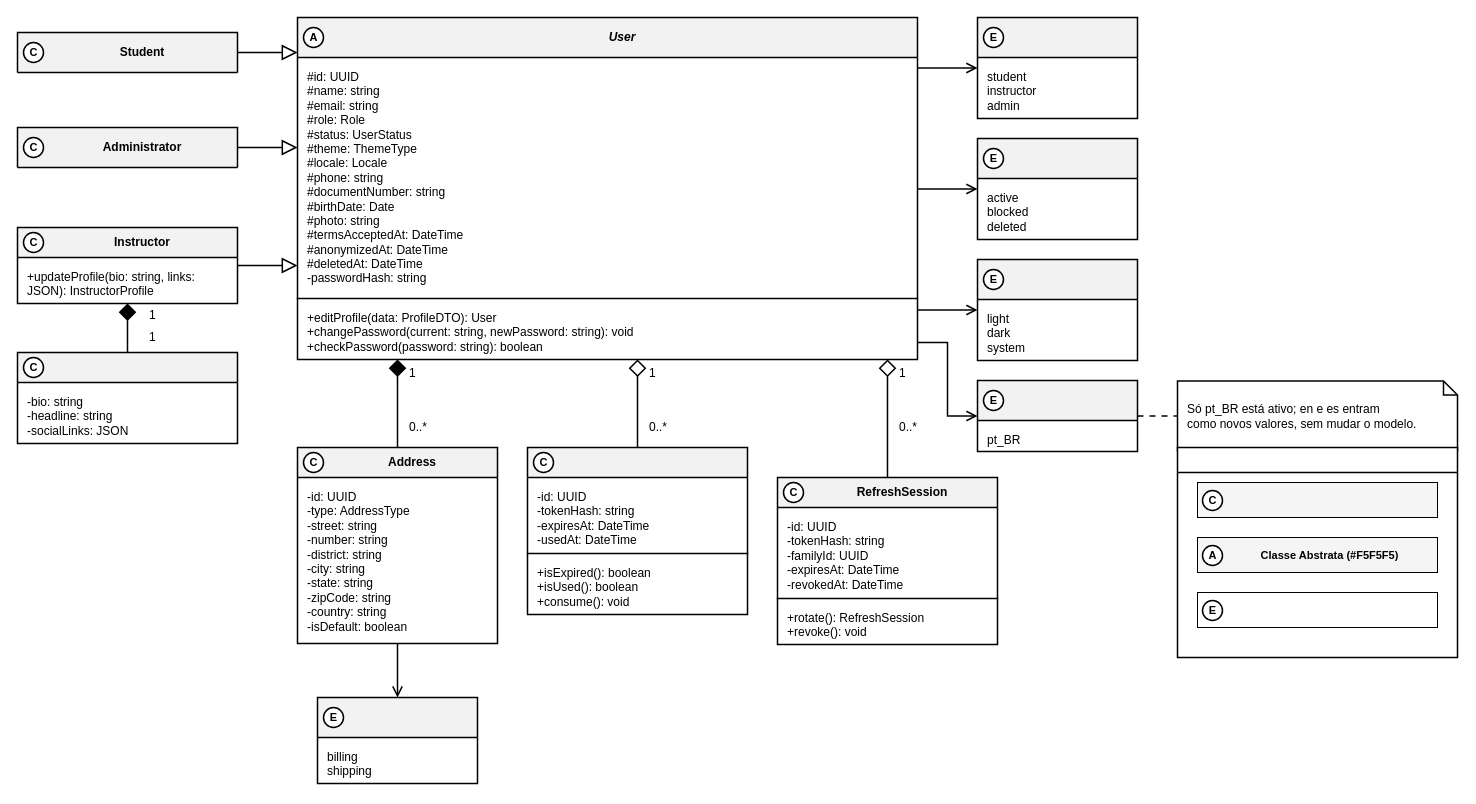
This 1476x804 diagram has some shape labels left out. Each missing label, with the box of its shape:
AddressType: (316, 696, 478, 784)
Entidade (#F5F5F5): (1196, 482, 1438, 518)
Enumeração (#FFFFFF): (1196, 592, 1438, 628)
InstructorProfile: (16, 351, 238, 444)
Legenda (Item 13): (1176, 446, 1458, 658)
Locale: (976, 379, 1138, 452)
PasswordResetToken: (526, 446, 748, 615)
Role: (976, 16, 1138, 119)
ThemeType: (976, 258, 1138, 361)
UserStatus: (976, 137, 1138, 240)
